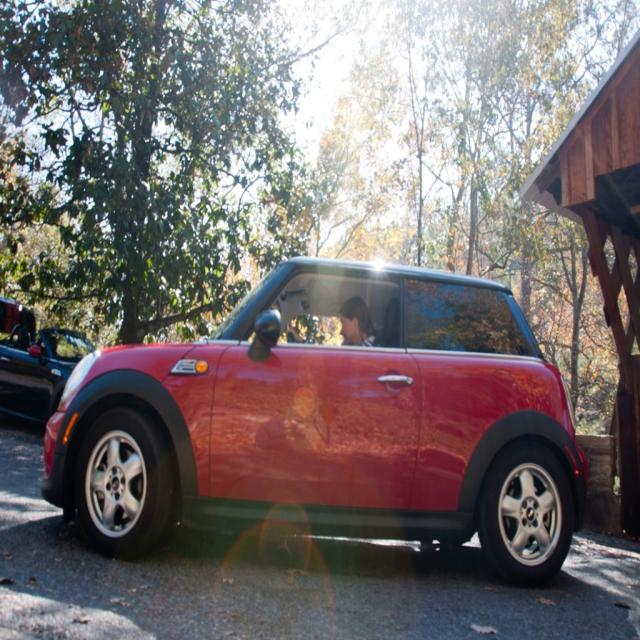car: (31, 262, 606, 593)
